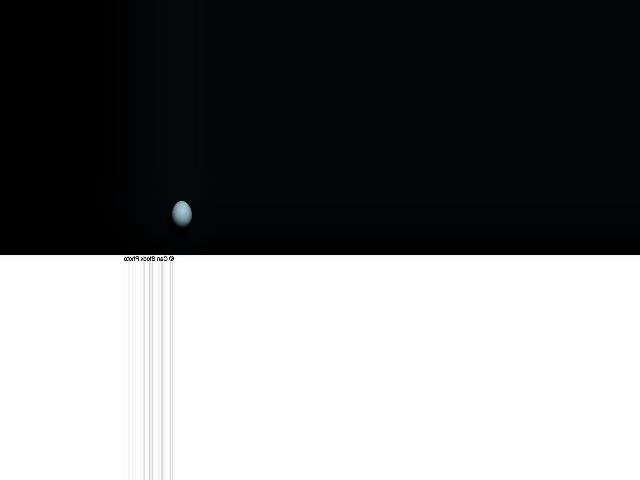egg: (171, 200, 192, 228)
